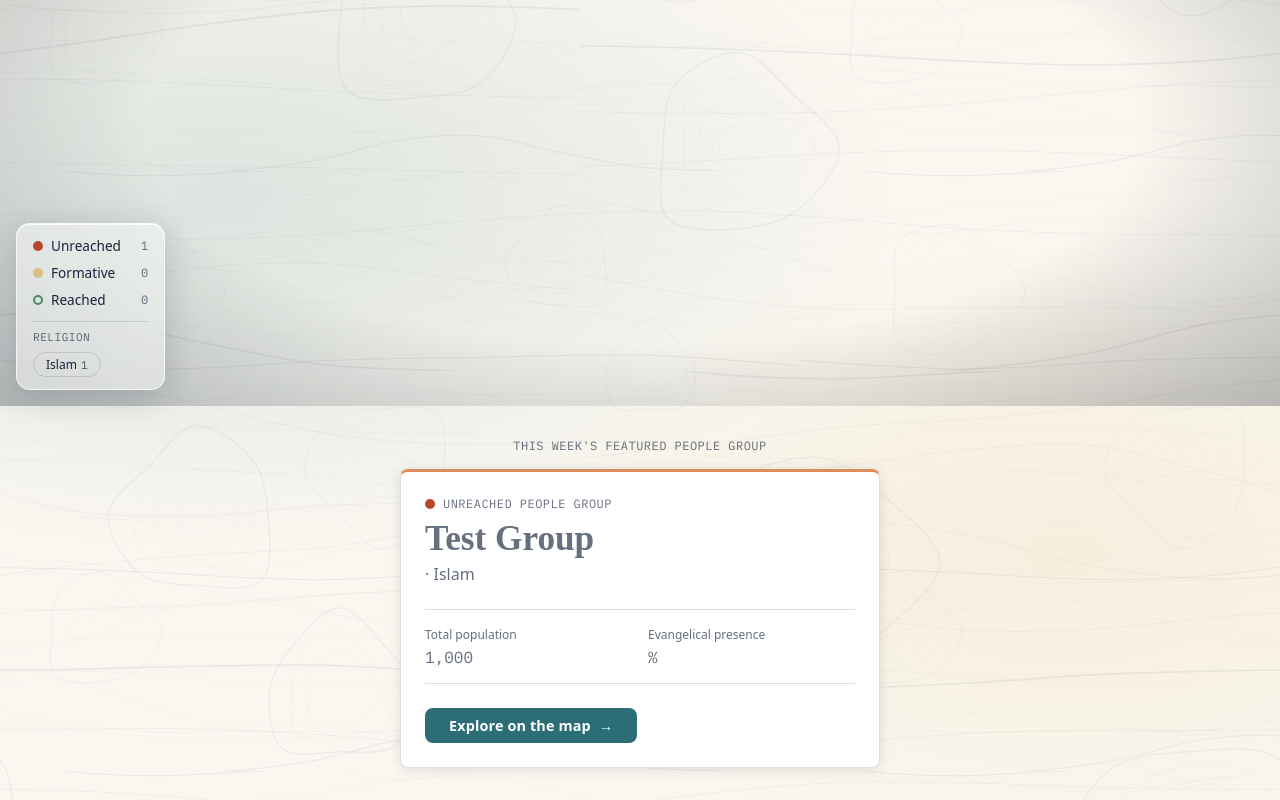
MapPage › selecting the featured group swaps the panel to the full profile view
(page scrolled)
Expected: the text "This week's featured people group" is shown, [513,438,767,453]
Click the button "Explore on the map" at (531, 726), box [425,708,637,743]
(page scrolled)
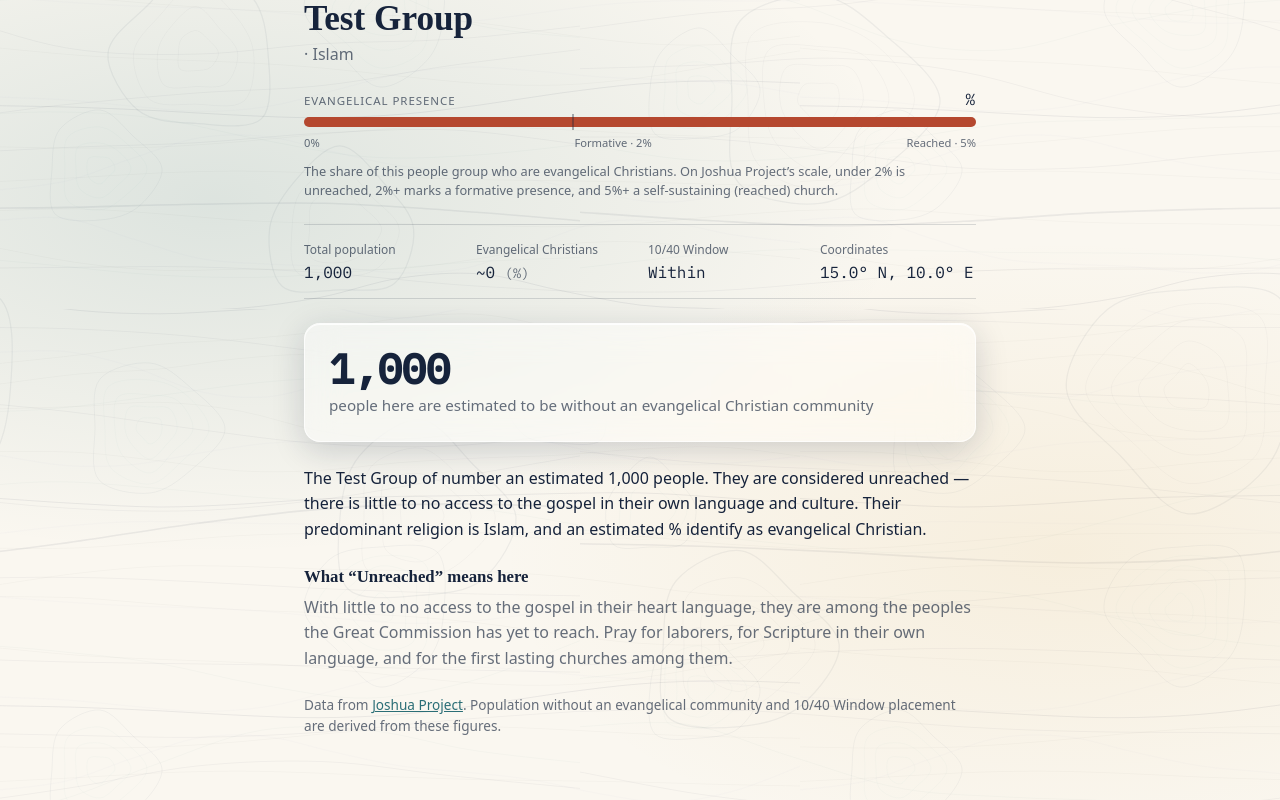
Result: the text "This week's featured people group" is gone
Result: the text "an estimated 1,000 people" is shown at [304,466,976,543]
